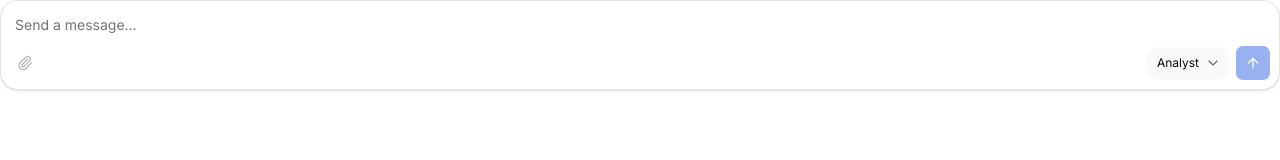
it: ChatComposer — toolbar: agent dropdown (US5, FR-026) › renders the configured agent list when available
Click the dropdown named "Select agent": (1188, 63) [1147,47,1229,79]
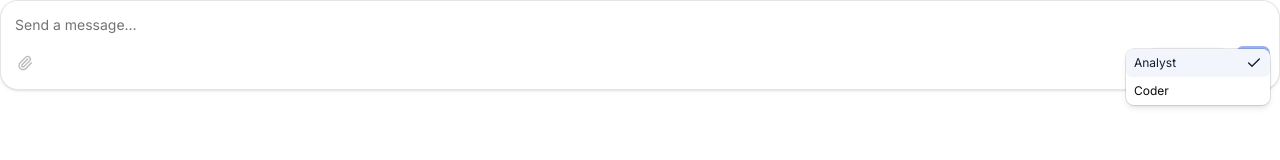
Result: the option "Analyst" is shown at [1126,49,1270,77]
Result: the option "Coder" is shown at [1134,83,1169,98]
